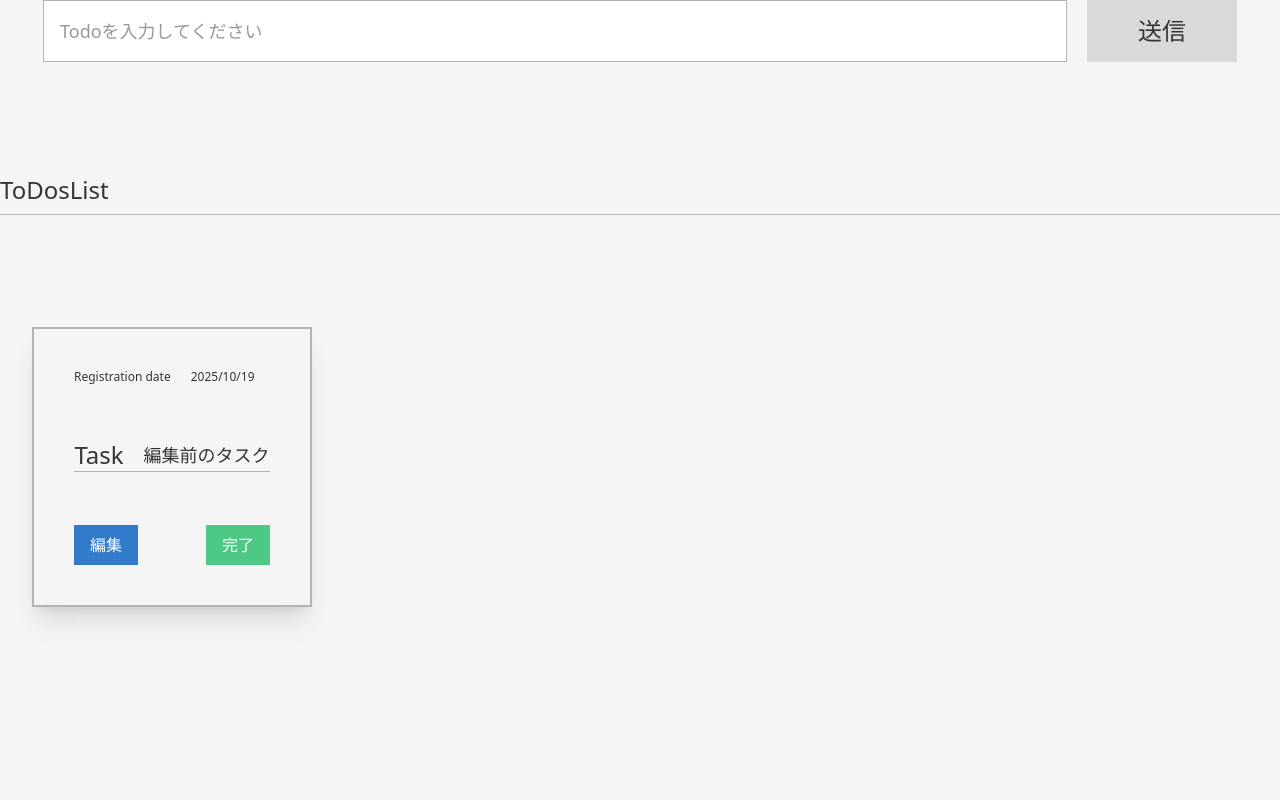
Test case: 非同期関数の動作確認 › patch:  タスクが更新されるか
The image size is (1280, 800).
Click the button "編集" at x=106, y=545, box top-left (74, 525), bottom-right (138, 565)
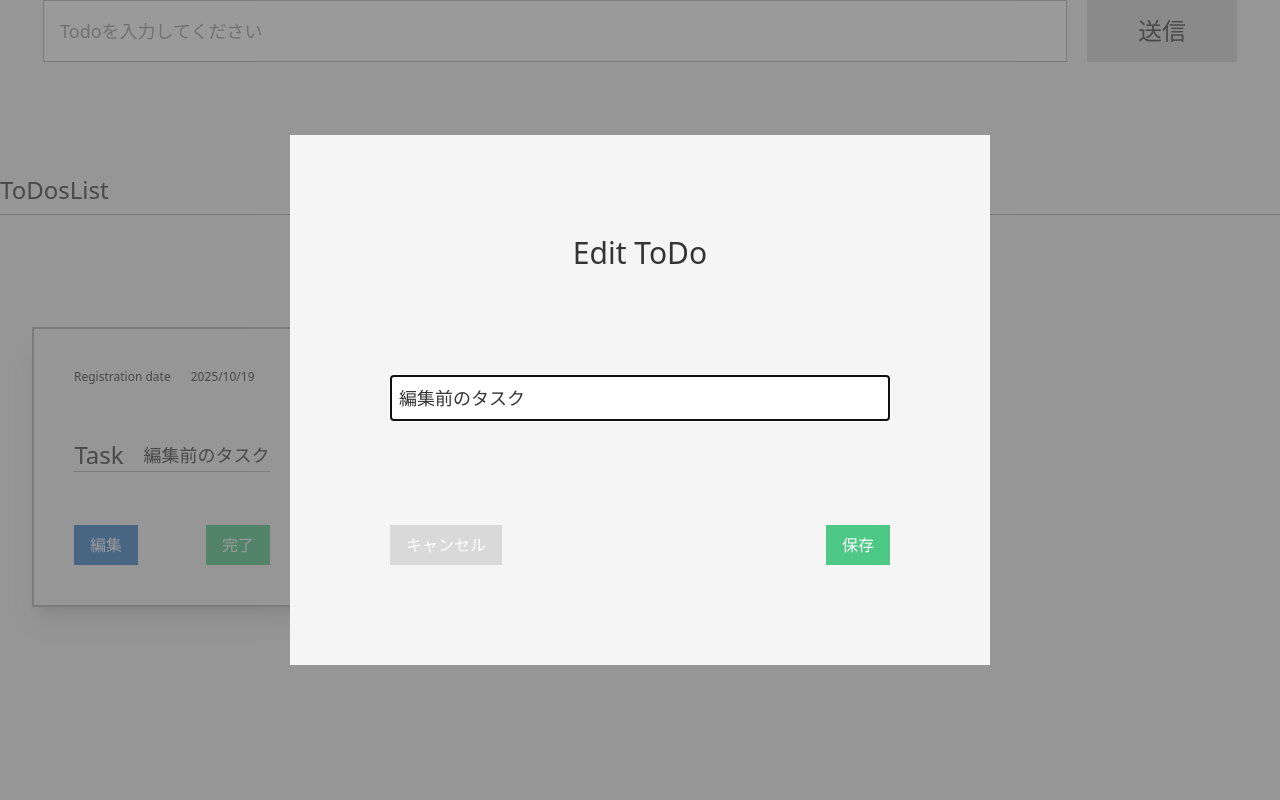
expect the button "保存" is shown: met, box top-left (826, 525), bottom-right (890, 565)
Replace the text in the field showing "編集前のタスク" with "編集後のタスク" at x=640, y=398, box top-left (390, 375), bottom-right (890, 421)
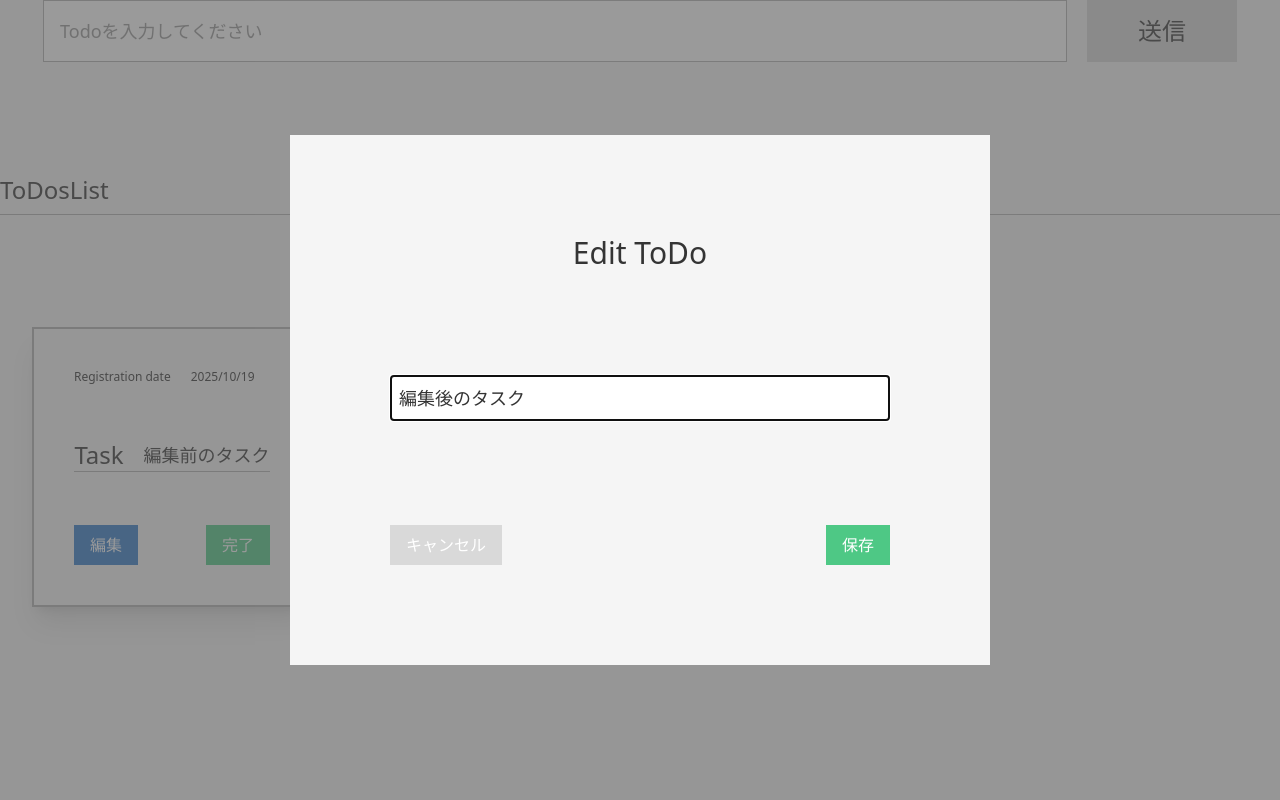
Click the button "保存" at x=858, y=545, box top-left (826, 525), bottom-right (890, 565)
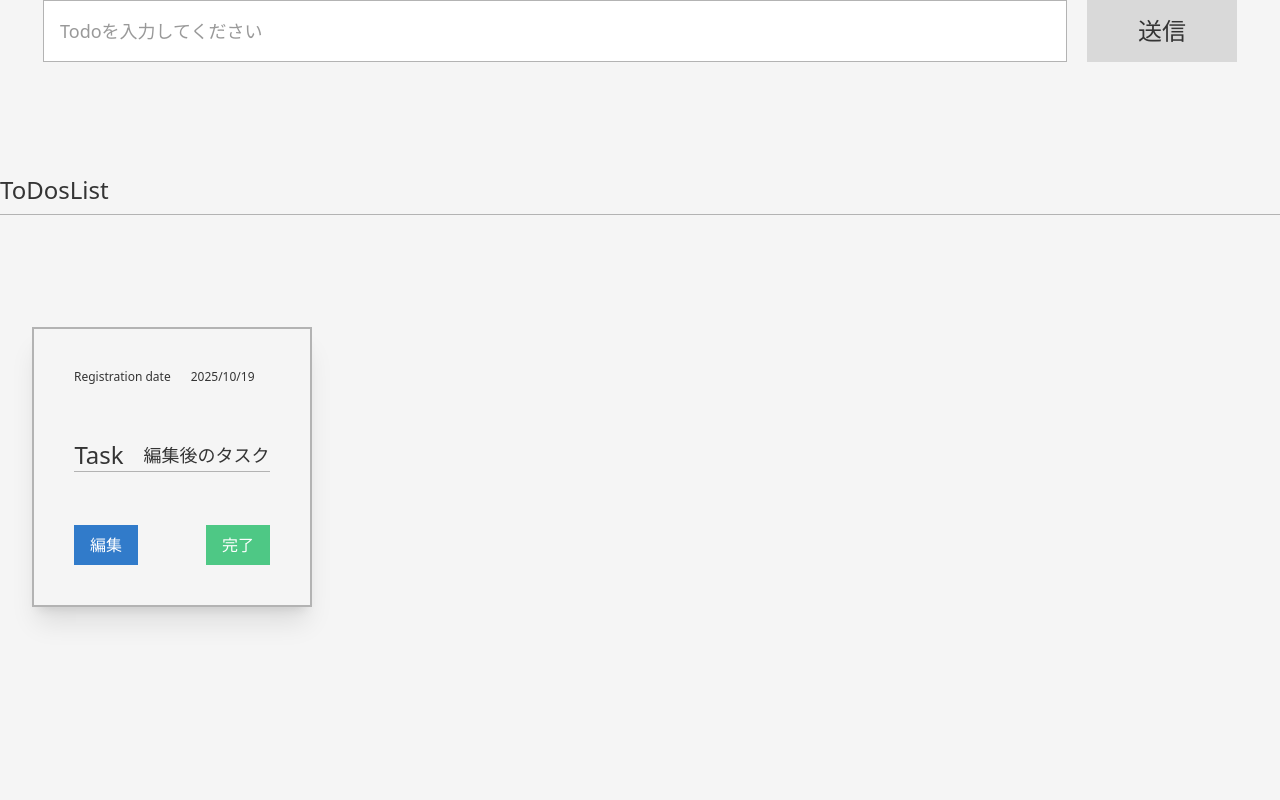
expect the text "編集後のタスク" is shown: met, box top-left (144, 440), bottom-right (270, 468)
